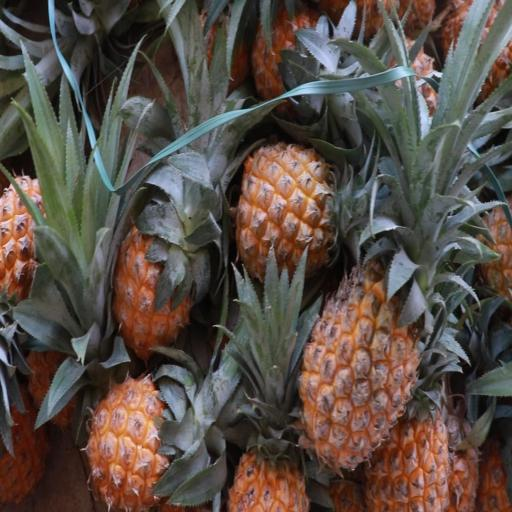Pineapple - v8 v1: (293, 235, 439, 478), (228, 128, 367, 294), (84, 357, 219, 512), (111, 194, 219, 366), (0, 154, 104, 326), (224, 366, 314, 512), (246, 1, 348, 127)
